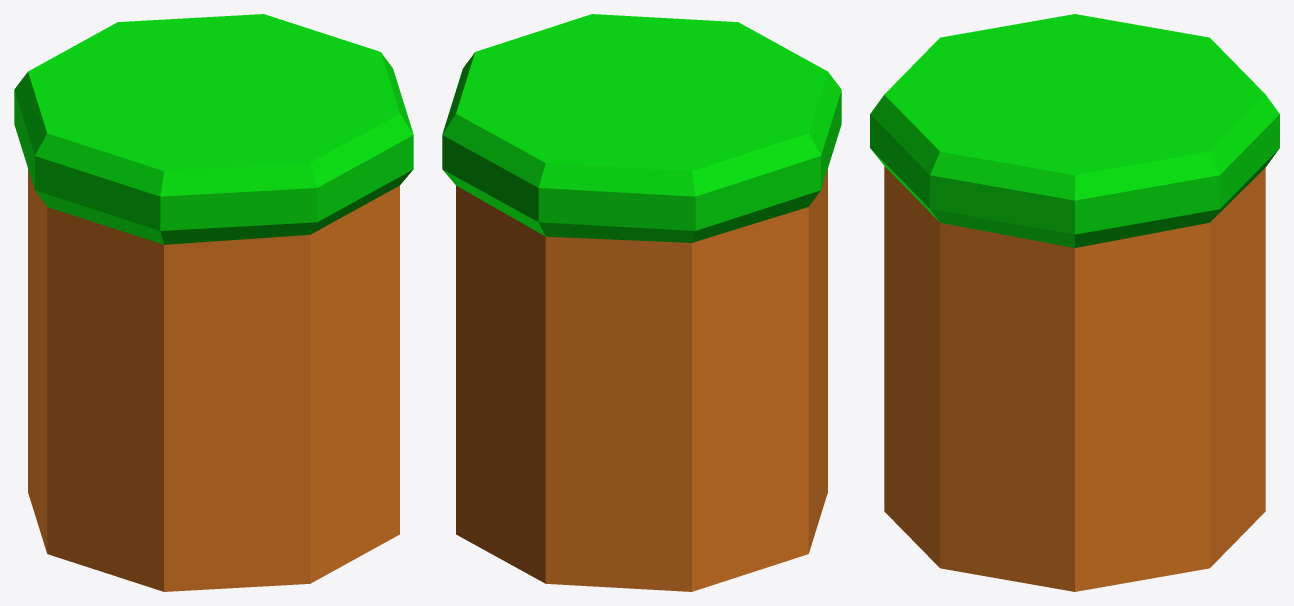
The model's file is island.fbx.
The picture shows the model from 3 angles, left to right: view 1: azimuth 30°, elevation 25°; view 2: azimuth 150°, elevation 25°; view 3: azimuth 270°, elevation 25°; orthographic projection.
Parts seen in each view (by area): view 1: Cylinder; view 2: Cylinder; view 3: Cylinder.
Boxes of the visible parts, bbox=[...] form: Cylinder: bbox=[14, 14, 413, 591]; Cylinder: bbox=[442, 14, 841, 591]; Cylinder: bbox=[870, 14, 1279, 591].
Size of the model in its own units: 215 by 241 by 215.
